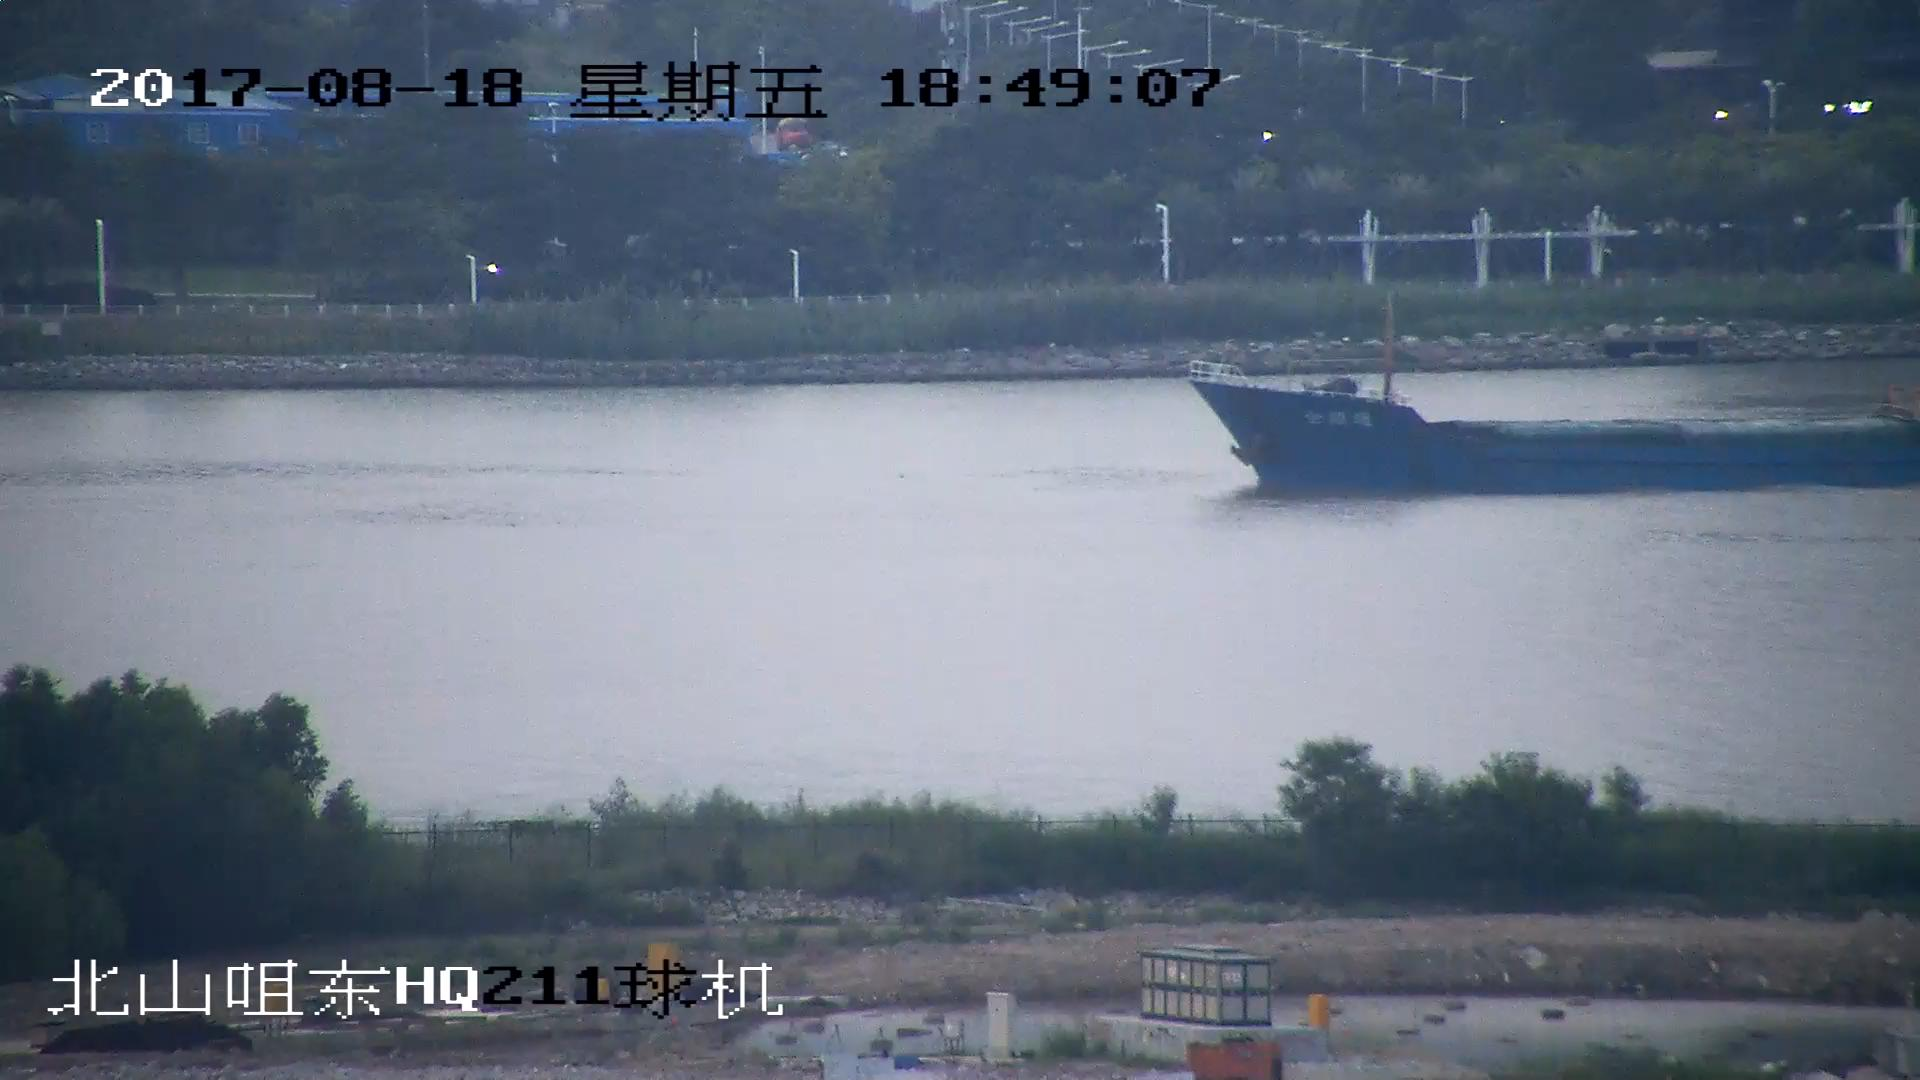general cargo ship: (1188, 358, 1920, 490)
